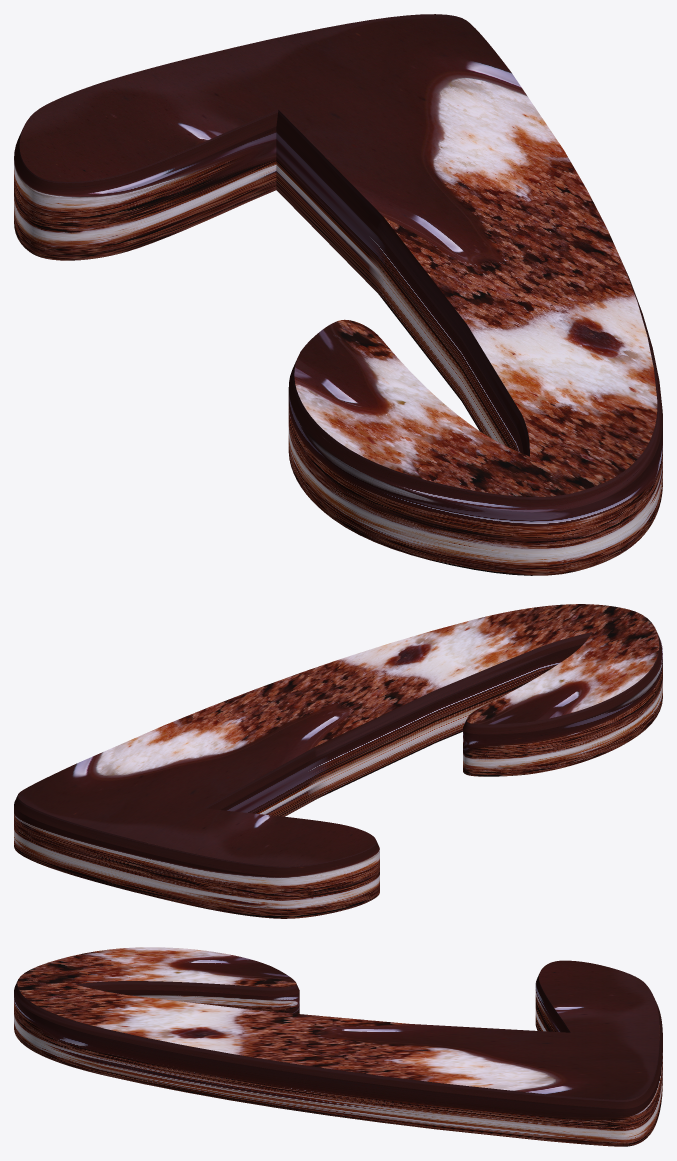
The model's file is myJ.FBX.
3 renders of one model, top to bottom at view 1: azimuth 30°, elevation 25°; view 2: azimuth 150°, elevation 25°; view 3: azimuth 270°, elevation 25°, orthographic. The views are drawn at different scales.
Parts seen in each view (by area): view 1: myB; view 2: myB; view 3: myB.
Boxes of the visible parts, x1,y1,x2,y2 form: myB: (14, 14, 662, 575); myB: (14, 604, 662, 918); myB: (14, 947, 662, 1146).
Bounding box in the file's own units: 44.22 × 6 × 77.9.
Materials: 1 (1 with a texture image).
